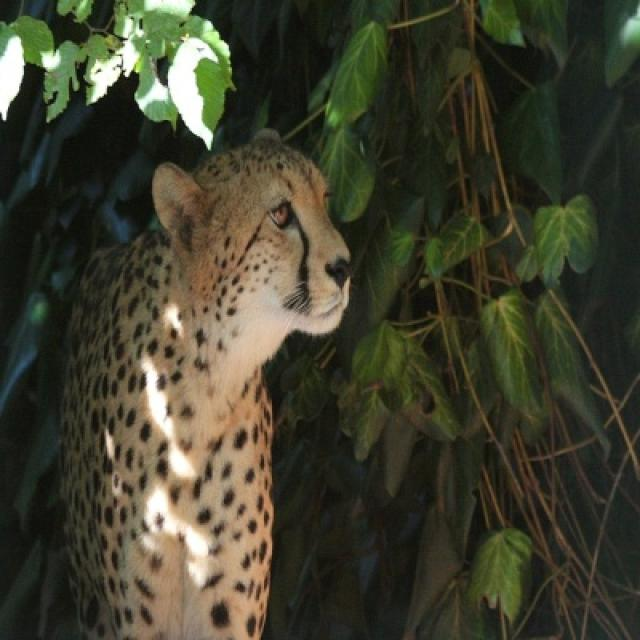Cheetah: (53, 128, 356, 638)
